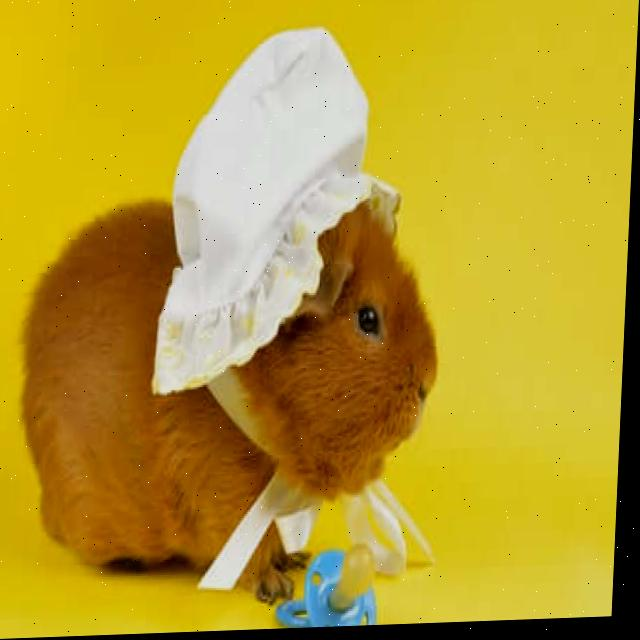guinea pig: (19, 186, 440, 579)
